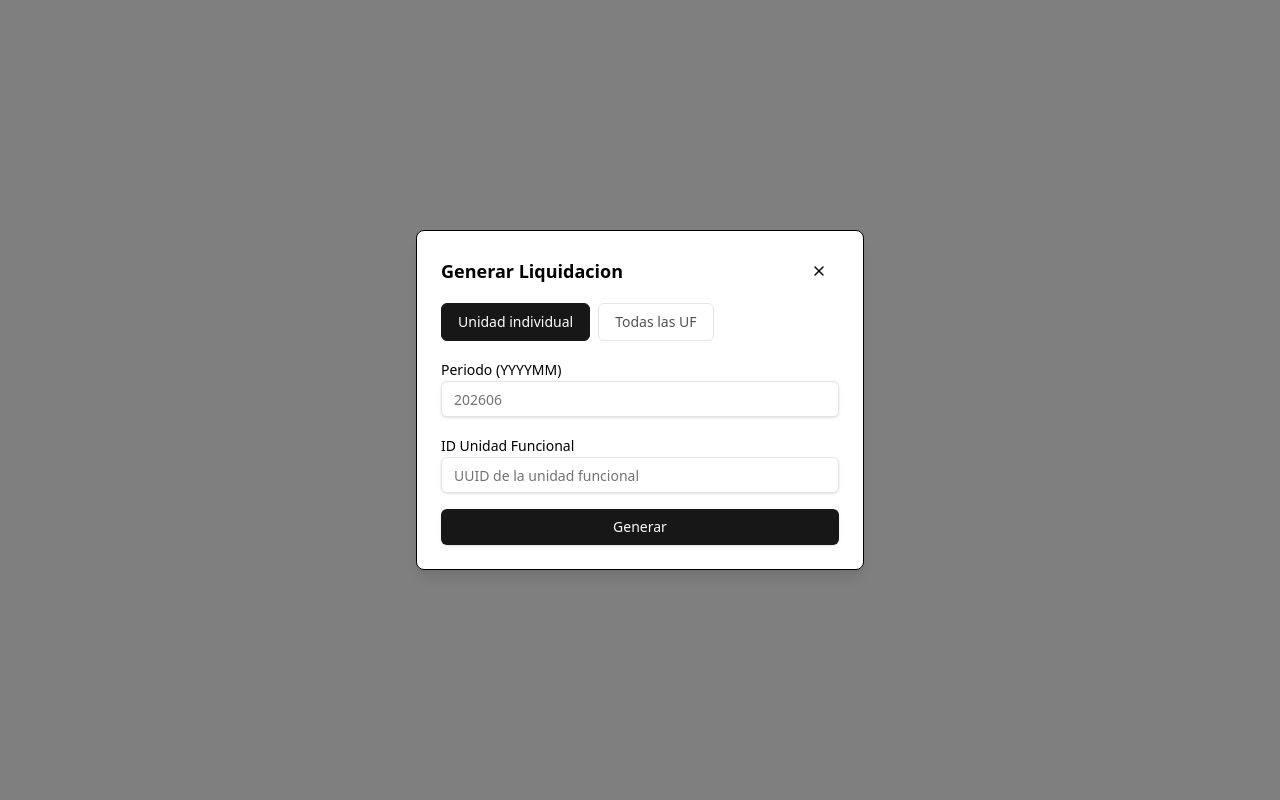
GenerateModal › [@validation] shows error when single submit with empty fields
Click the button "Generar" at [640, 527], box [441, 509, 839, 545]
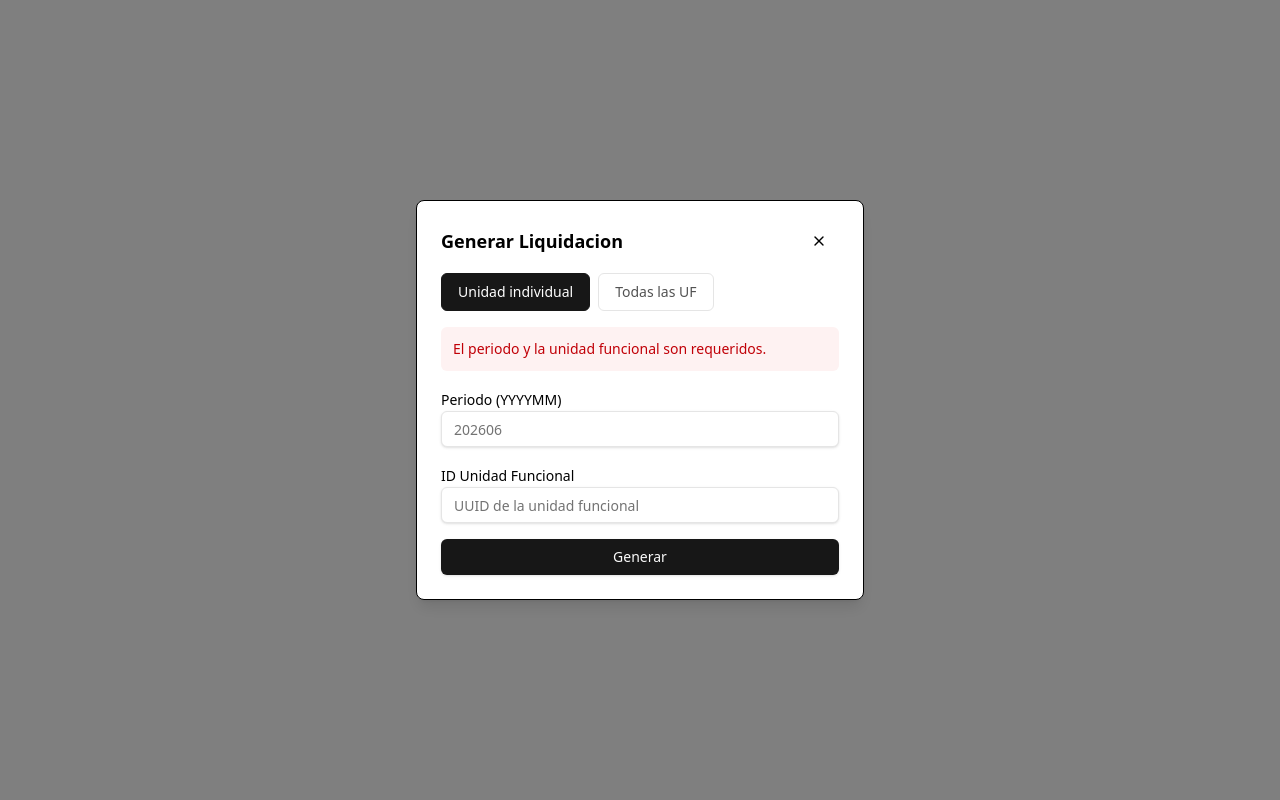
Expected: the text "El periodo y la unidad funcional son requeridos." is shown, [441, 327, 839, 371]
